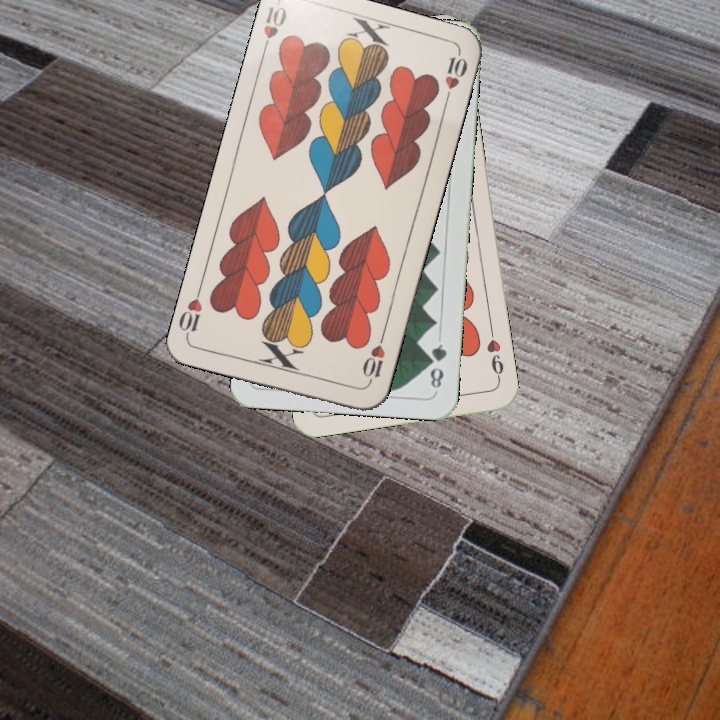G8: (425, 340, 450, 391)
H10: (257, 2, 290, 58), (358, 330, 388, 388)
H9: (482, 325, 507, 384)
